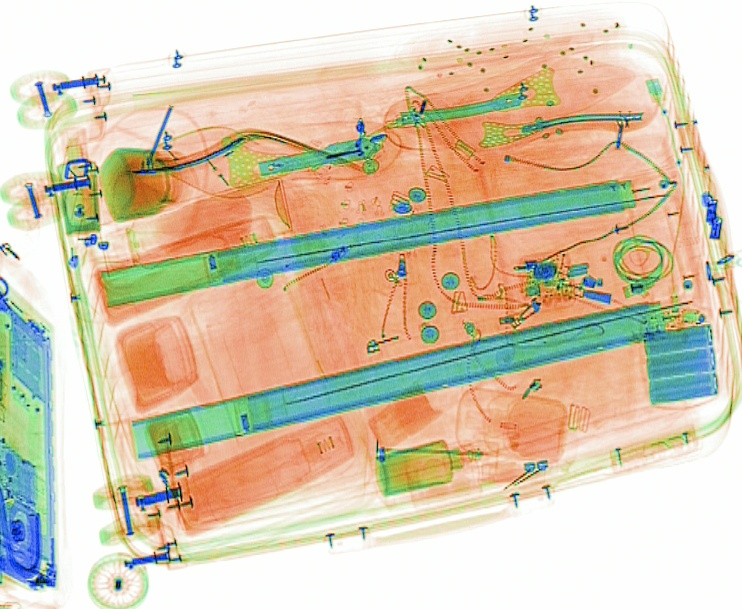powerbank: (632, 303, 720, 407)
pressure: (94, 171, 296, 276)
